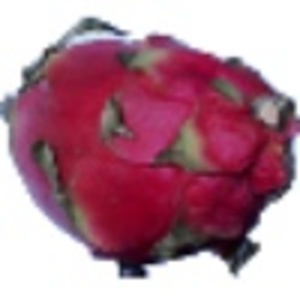pitaia: (1, 16, 300, 281)
